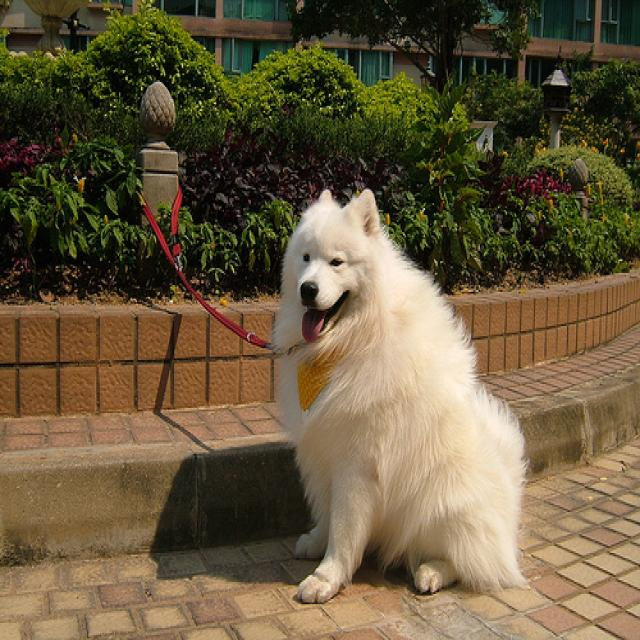dog-samoyed: (271, 181, 530, 618)
